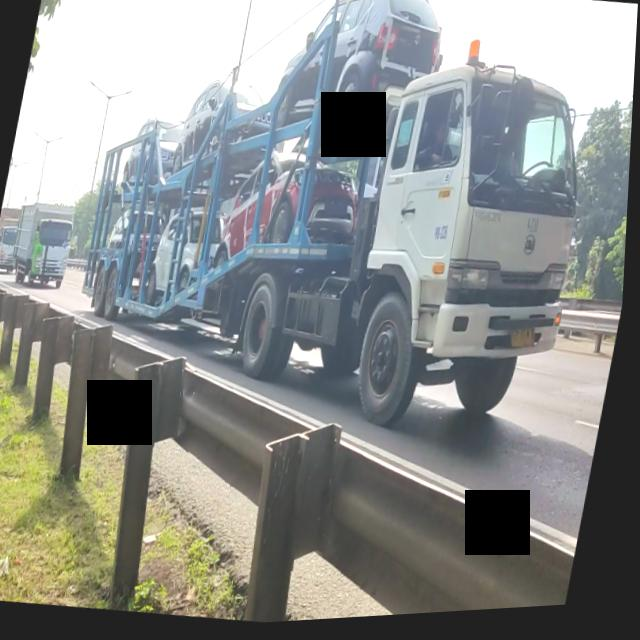Golongan IV: (58, 0, 622, 481)
